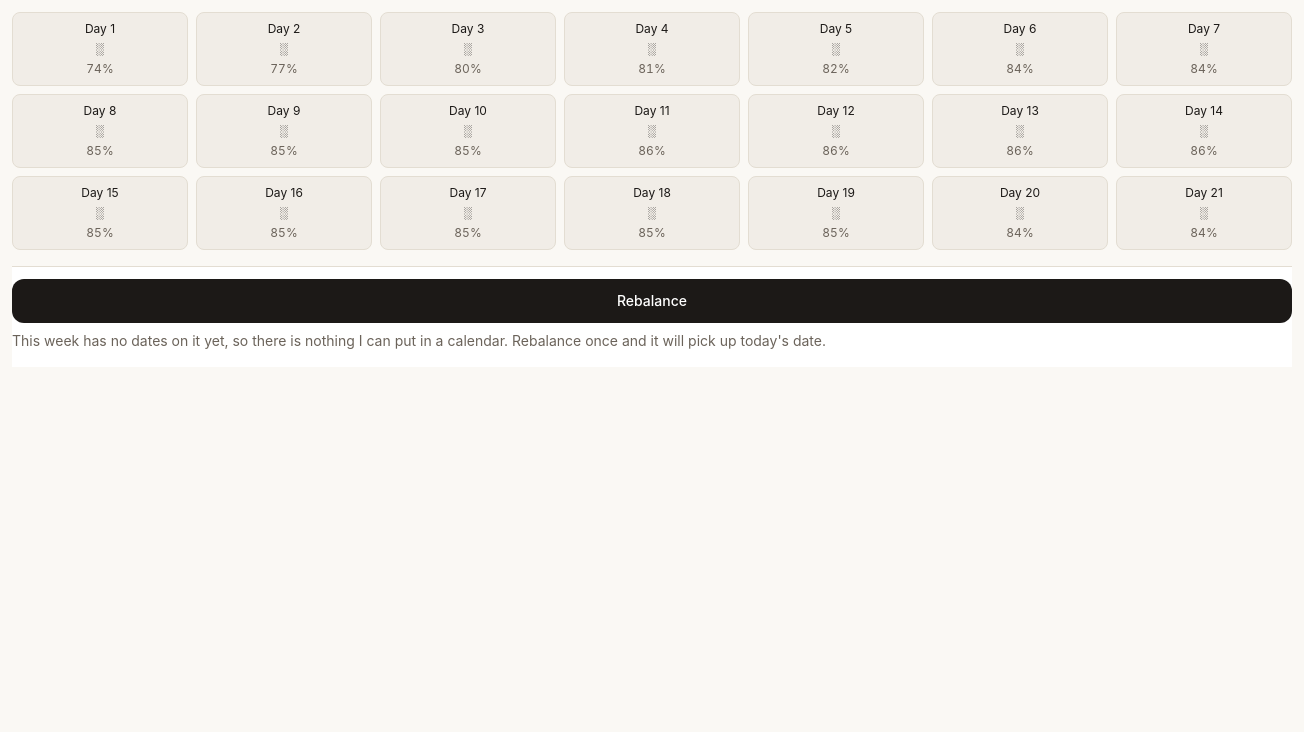
WeekScreen › marks a fixed block with both the glyph and the word, not the glyph alone
The image size is (1304, 732).
Click the button with test id "day-3".
click(652, 49)  # box [564,12,740,86]
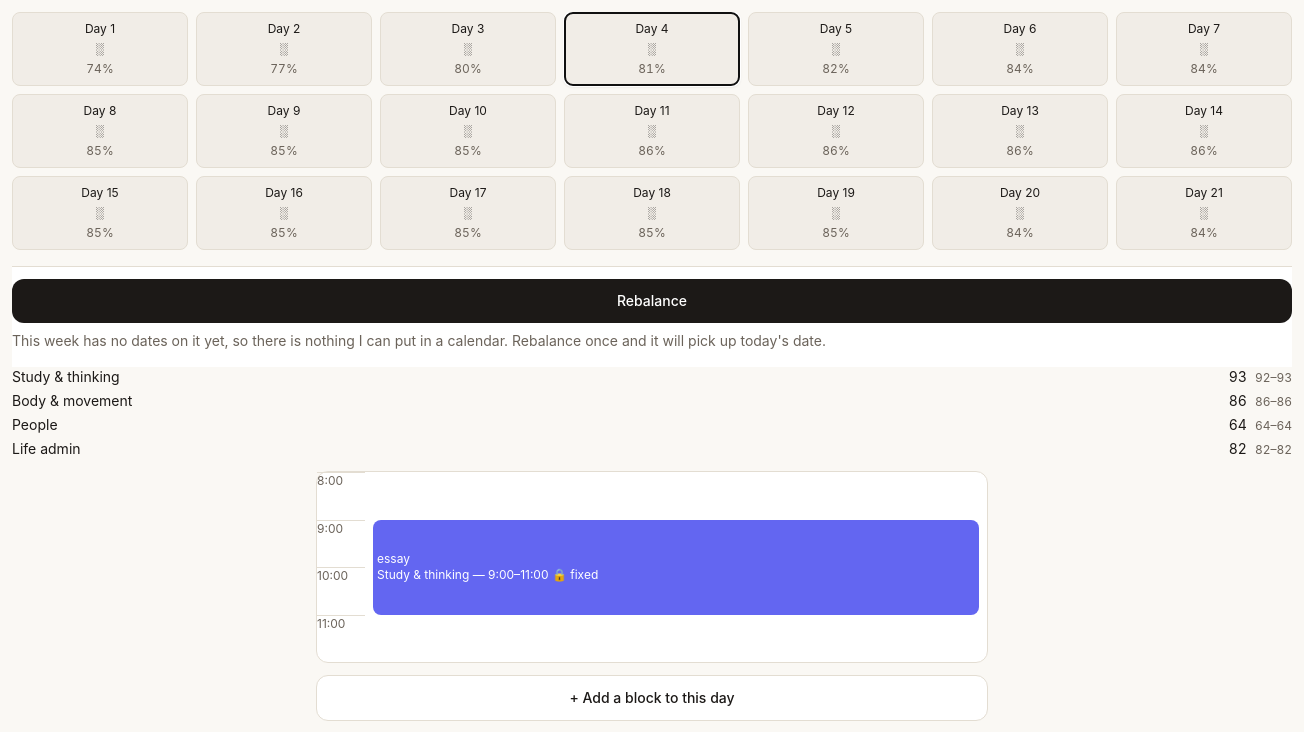
Now the button with test id "block-essay" shows "🔒", box [373,520,979,614]
Now the button with test id "block-essay" shows "fixed", box [373,520,979,614]
